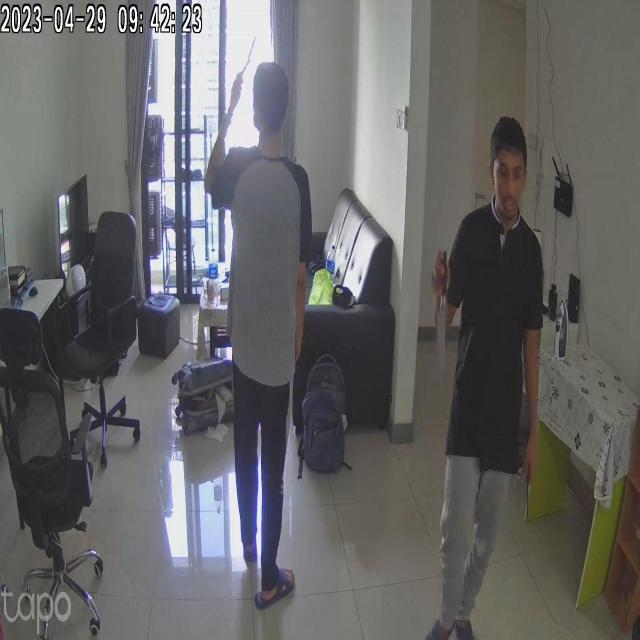Knife: (420, 242, 465, 379), (232, 35, 261, 95)
